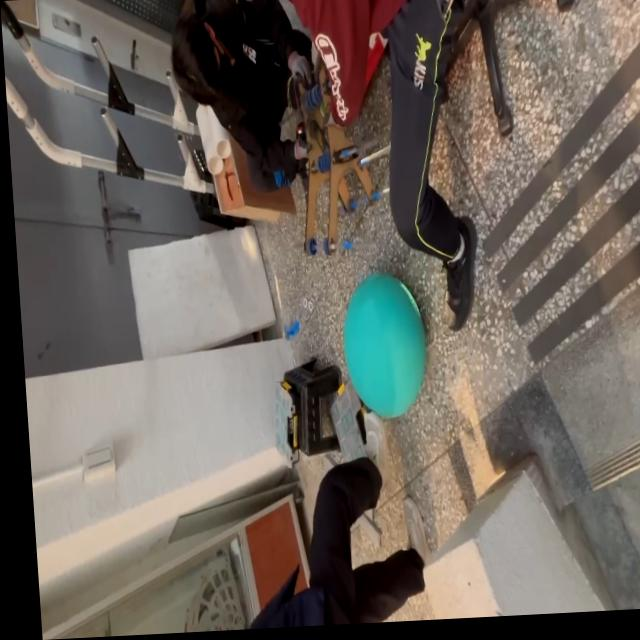ALGAE: (337, 268, 432, 423)
